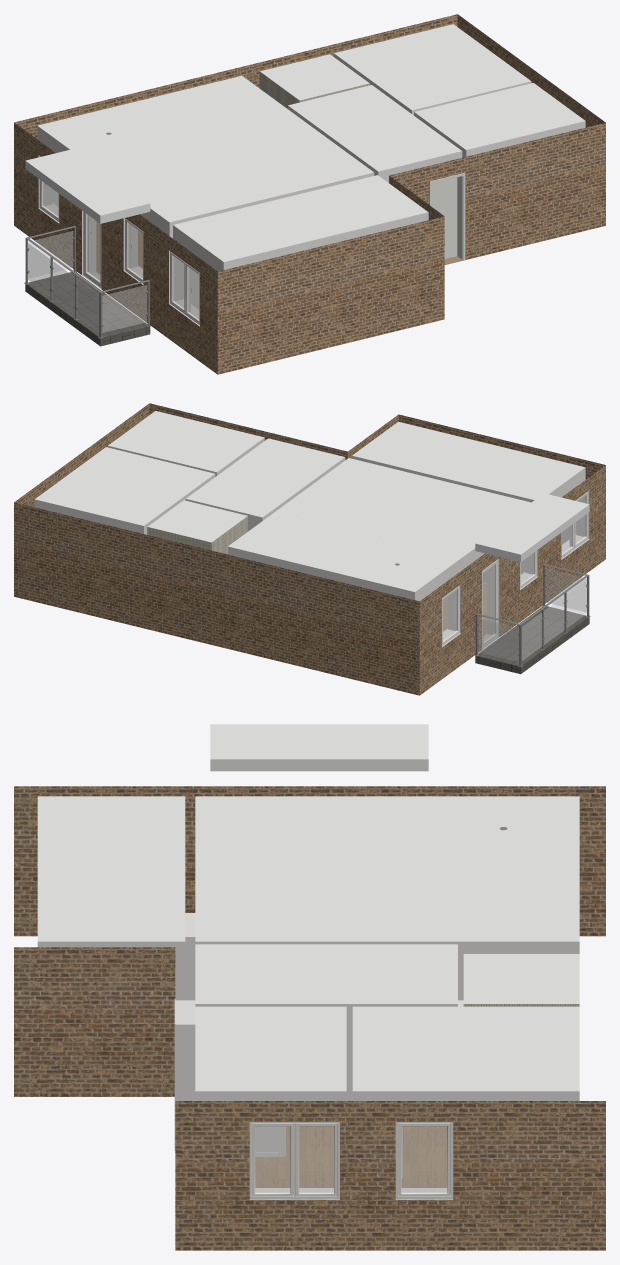
Rendered from apartment.gltf.
3 views of the same model, one above another, from view 1: azimuth 30°, elevation 25°; view 2: azimuth 150°, elevation 25°; view 3: azimuth 270°, elevation 25° (orthographic). The views are drawn at different scales.
Parts seen in each view (by area): view 1: wall_ext, ceil_living, ceil_vaer3, ceil_vaer1, ceil_entre, wall_altan, ceil_vaer2, balcony_above, balcony_slab, wall_vaer3, rail_w, wall_living (+13 smaller); view 2: wall_ext, ceil_living, ceil_vaer3, ceil_vaer1, ceil_entre, wall_altan, ceil_vaer2, balcony_above, wall_living, balcony_slab, rail_w, ceil_bad (+11 smaller); view 3: wall_ext, ceil_living, ceil_vaer3, ceil_vaer1, ceil_entre, ceil_vaer2, wall_altan, balcony_above, win_vaer2, ceil_bad, win_vaer1, wall_living (+7 smaller).
Boxes of the visible parts, left/top/right/bottom form: wall_ext: left=14, top=14, right=605, bottom=374; ceil_living: left=38, top=75, right=373, bottom=222; ceil_vaer3: left=173, top=175, right=427, bottom=261; ceil_vaer1: left=334, top=24, right=530, bottom=110; ceil_entre: left=288, top=85, right=461, bottom=171; wall_altan: left=14, top=122, right=217, bottom=303; ceil_vaer2: left=414, top=83, right=585, bottom=149; balcony_above: left=25, top=148, right=150, bottom=223; balcony_slab: left=25, top=272, right=150, bottom=346; wall_vaer3: left=169, top=212, right=428, bottom=326; rail_w: left=24, top=237, right=103, bottom=338; wall_living: left=37, top=126, right=374, bottom=284; wall_ext: left=14, top=403, right=605, bottom=695; ceil_living: left=228, top=458, right=530, bottom=591; ceil_vaer3: left=352, top=421, right=584, bottom=499; ceil_vaer1: left=35, top=447, right=214, bottom=525; ceil_entre: left=186, top=438, right=344, bottom=517; wall_altan: left=419, top=465, right=605, bottom=695; ceil_vaer2: left=108, top=411, right=264, bottom=472; balcony_above: left=475, top=493, right=589, bottom=561; wall_living: left=228, top=546, right=538, bottom=646; balcony_slab: left=475, top=606, right=589, bottom=674; rail_w: left=518, top=574, right=589, bottom=666; ceil_bad: left=148, top=500, right=247, bottom=542; wall_ext: left=14, top=786, right=605, bottom=1250; ceil_living: left=195, top=796, right=579, bottom=941; ceil_vaer3: left=37, top=796, right=185, bottom=941; ceil_vaer1: left=352, top=1006, right=579, bottom=1091; ceil_entre: left=195, top=944, right=457, bottom=1003; ceil_vaer2: left=195, top=1006, right=346, bottom=1091; wall_altan: left=14, top=786, right=605, bottom=936; balcony_above: left=210, top=724, right=428, bottom=771; win_vaer2: left=249, top=1122, right=339, bottom=1198; ceil_bad: left=463, top=954, right=579, bottom=1003; win_vaer1: left=395, top=1122, right=453, bottom=1198; wall_living: left=185, top=913, right=579, bottom=1000.
Bounding box in the file's own units: 12.54 × 3.17 × 8.95.
124 materials, 117 textured.
